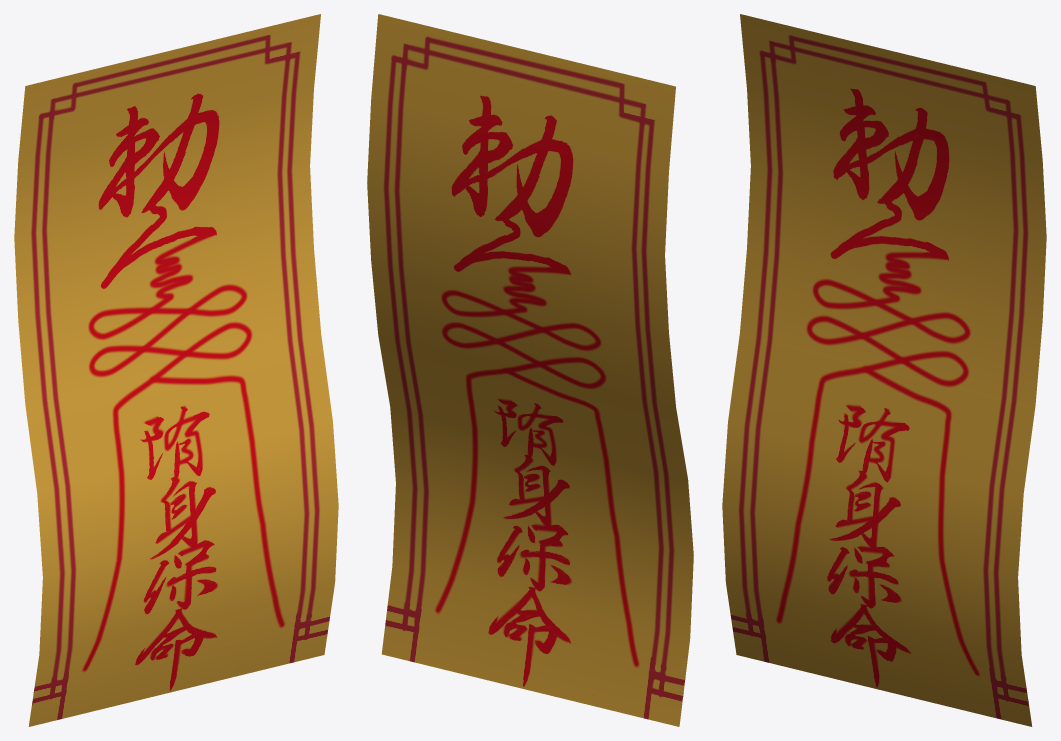
The model's file is HUDA1.fbx.
3 renders of one model, left to right at view 1: azimuth 30°, elevation 25°; view 2: azimuth 150°, elevation 25°; view 3: azimuth 330°, elevation 25°, orthographic.
Parts seen in each view (by area): view 1: HUDA; view 2: HUDA; view 3: HUDA.
Boxes of the visible parts, left/top/right/bottom form: HUDA: left=14, top=14, right=338, bottom=726; HUDA: left=367, top=14, right=693, bottom=726; HUDA: left=722, top=14, right=1046, bottom=726.
Size of the model in its own units: 4.84 by 10 by 0.8265.
1 material, 1 textured.
